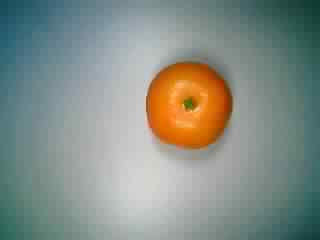orange: (136, 58, 235, 155)
